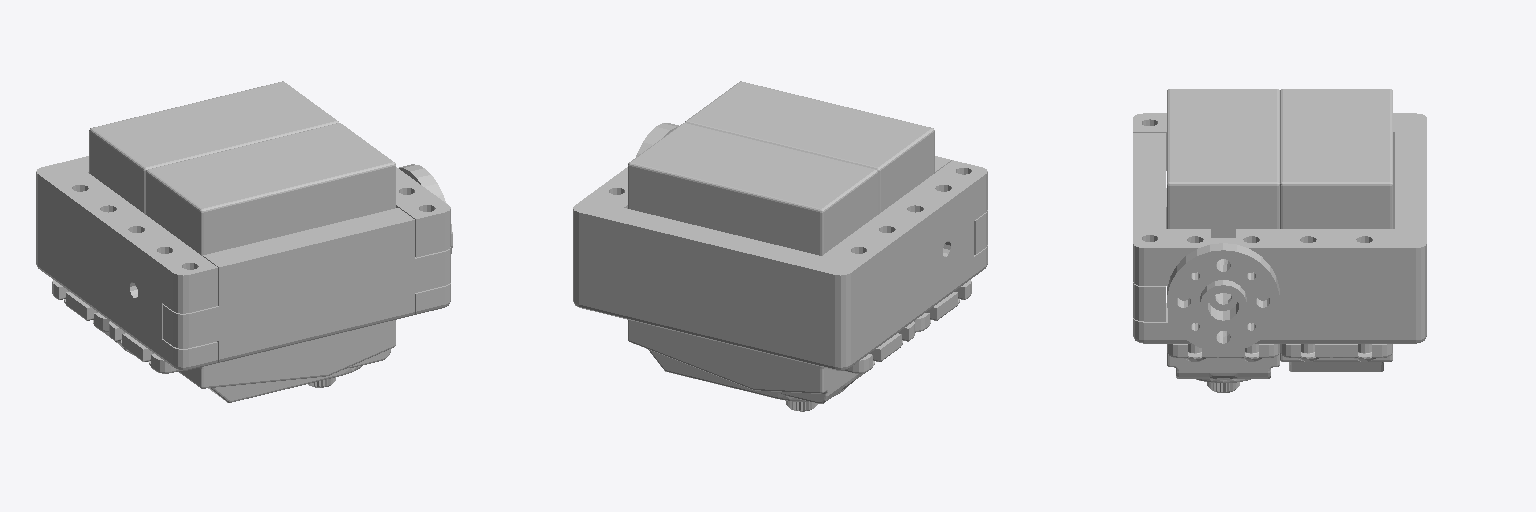
Rendered from lf shoulder.obj.
3 renders of one model, left to right at view 1: azimuth 30°, elevation 25°; view 2: azimuth 150°, elevation 25°; view 3: azimuth 270°, elevation 25°, orthographic.
Parts seen in each view (by area): view 1: Body7, Body6, Body2, Body2:1, Body4, Body1, Body4:1, Body1:1, Body1:10; view 2: Body6, Body2:1, Body2, Body4:1, Body1:1, Body4, Body1, Body7; view 3: Body6, Body2, Body2:1, Body1:10, Body7, Body4, Body4:1, Body1, Body1:1.
Boxes of the visible parts, x1=… form: Body7: x1=163, y1=208, x2=450, y2=362; Body6: x1=36, y1=156, x2=450, y2=370; Body2: x1=146, y1=123, x2=395, y2=241; Body2:1: x1=89, y1=81, x2=338, y2=200; Body4: x1=109, y1=320, x2=395, y2=402; Body1: x1=146, y1=195, x2=395, y2=255; Body4:1: x1=52, y1=280, x2=148, y2=361; Body1:1: x1=89, y1=161, x2=145, y2=214; Body1:10: x1=399, y1=164, x2=452, y2=253; Body6: x1=573, y1=160, x2=987, y2=370; Body2:1: x1=628, y1=123, x2=877, y2=241; Body2: x1=685, y1=81, x2=934, y2=200; Body4:1: x1=628, y1=320, x2=914, y2=403; Body1:1: x1=628, y1=195, x2=877, y2=255; Body4: x1=914, y1=280, x2=971, y2=332; Body1: x1=878, y1=161, x2=934, y2=214; Body7: x1=935, y1=156, x2=987, y2=254; Body6: x1=1133, y1=113, x2=1426, y2=343; Body2: x1=1167, y1=89, x2=1279, y2=214; Body2:1: x1=1280, y1=89, x2=1392, y2=214; Body1:10: x1=1167, y1=243, x2=1279, y2=352; Body7: x1=1133, y1=133, x2=1165, y2=321; Body4: x1=1167, y1=344, x2=1279, y2=382; Body4:1: x1=1280, y1=344, x2=1392, y2=371; Body1: x1=1167, y1=215, x2=1279, y2=237; Body1:1: x1=1280, y1=215, x2=1392, y2=228.
Size of the model in its own units: 0.0618 by 0.0445 by 0.052.